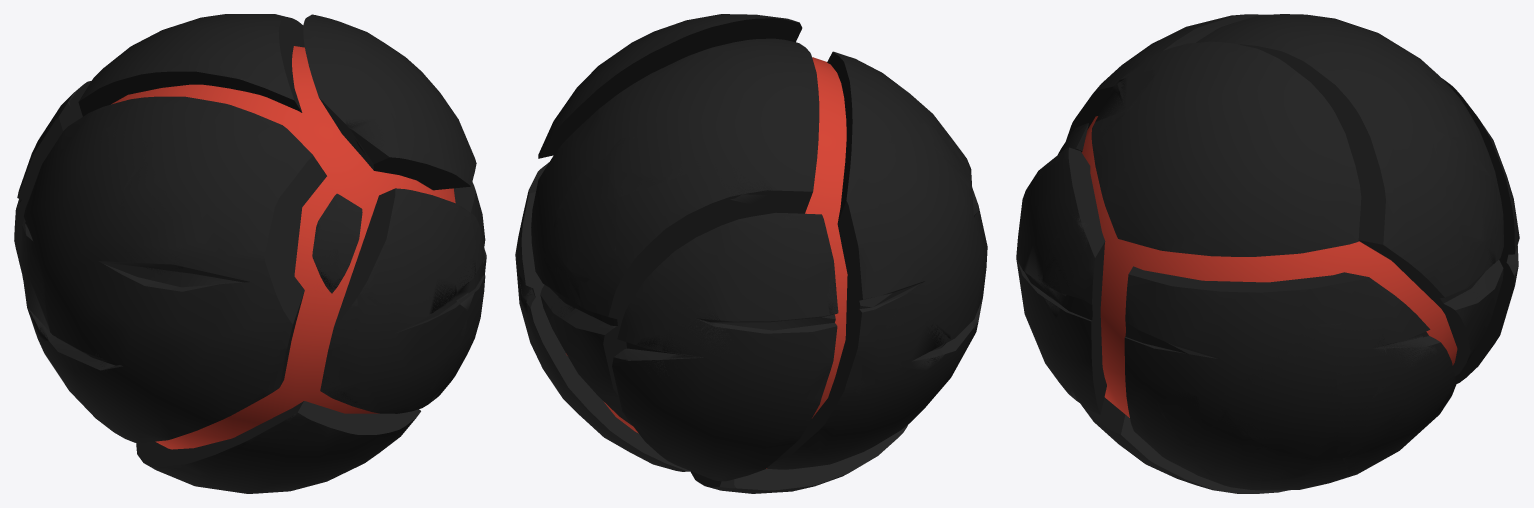
File: exploding_planet.glb
The picture shows the model from 3 angles, left to right: view 1: azimuth 30°, elevation 25°; view 2: azimuth 150°, elevation 25°; view 3: azimuth 270°, elevation 25°; orthographic projection. The views are drawn at different scales.
Visible parts, largest first — view 1: origin, Planet_11_cell.046, Planet_11_cell.090, Planet_11_cell.135, Planet_11_cell.076, Planet_11_cell.075, Planet_11_cell.128, Planet_11_cell.030, Planet_11_cell.051; view 2: origin, Planet_11_cell.089, Planet_11_cell.034, Planet_11_cell.076, Planet_11_cell.080, Planet_11_cell.090, Planet_11_cell.096, Planet_11_cell.045; view 3: origin, Planet_11_cell.059, Planet_11_cell.089, Planet_11_cell.048, Planet_11_cell.047, Planet_11_cell.039, Planet_11_cell.075, Planet_11_cell.007, Planet_11_cell.046, Planet_11_cell.106, Planet_11_cell.034, Planet_11_cell.135.
Part boxes in pixels (<box>): origin: <box>14,14,486,493</box>; Planet_11_cell.046: <box>360,229,456,321</box>; Planet_11_cell.090: <box>118,162,183,279</box>; Planet_11_cell.135: <box>344,83,406,154</box>; Planet_11_cell.076: <box>20,237,49,340</box>; Planet_11_cell.075: <box>450,201,475,310</box>; Planet_11_cell.128: <box>100,127,153,165</box>; Planet_11_cell.030: <box>313,223,343,292</box>; Planet_11_cell.051: <box>429,319,466,403</box>; origin: <box>516,14,987,493</box>; Planet_11_cell.089: <box>551,155,618,282</box>; Planet_11_cell.034: <box>608,136,703,197</box>; Planet_11_cell.076: <box>875,288,951,370</box>; Planet_11_cell.080: <box>659,306,735,414</box>; Planet_11_cell.090: <box>918,123,972,194</box>; Planet_11_cell.096: <box>706,166,772,204</box>; Planet_11_cell.045: <box>541,241,580,318</box>; origin: <box>1016,14,1519,493</box>; Planet_11_cell.059: <box>1214,322,1338,458</box>; Planet_11_cell.089: <box>1431,131,1497,242</box>; Planet_11_cell.048: <box>1250,320,1386,452</box>; Planet_11_cell.047: <box>1334,335,1437,455</box>; Planet_11_cell.039: <box>1156,390,1264,449</box>; Planet_11_cell.075: <box>1042,214,1088,318</box>; Planet_11_cell.007: <box>1183,445,1332,480</box>; Planet_11_cell.046: <box>1017,167,1048,291</box>; Planet_11_cell.106: <box>1342,398,1427,474</box>; Planet_11_cell.034: <box>1419,73,1465,142</box>; Planet_11_cell.135: <box>1095,69,1160,137</box>.
Size of the model in its own units: 5.59 by 5.67 by 5.74.
1 material, 1 textured.
